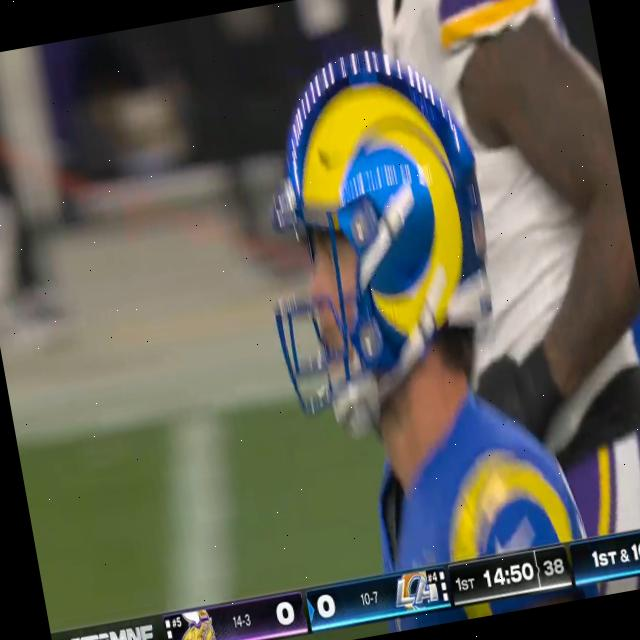Player: (230, 14, 570, 584)
